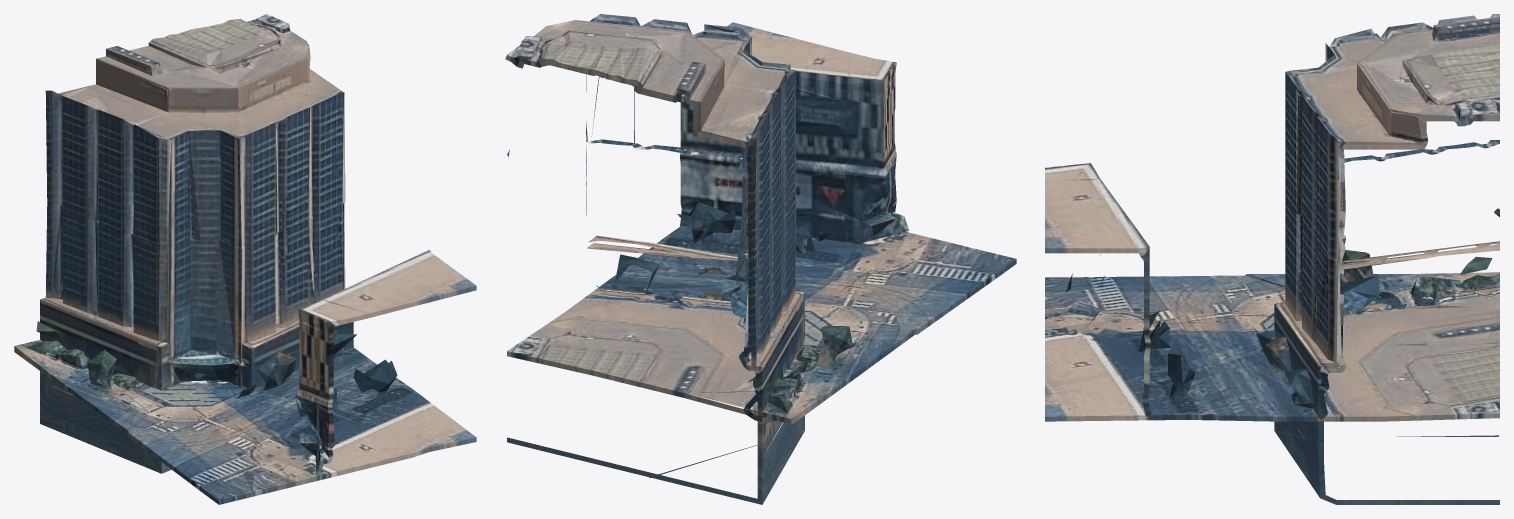
Rendered from chunk_-6_0.glb.
3 views of the same model, side by side, from view 1: azimuth 30°, elevation 25°; view 2: azimuth 150°, elevation 25°; view 3: azimuth 270°, elevation 25° (orthographic). The views are drawn at different scales.
Parts seen in each view (by area): view 1: hero-chunk; view 2: hero-chunk; view 3: hero-chunk.
Part boxes in pixels (<box>): hero-chunk: <box>14,14,476,504</box>; hero-chunk: <box>505,14,1016,504</box>; hero-chunk: <box>1045,14,1499,504</box>.
Size of the model in its own units: 56.35 by 74.16 by 76.32.
Materials: 2 (2 with a texture image).
